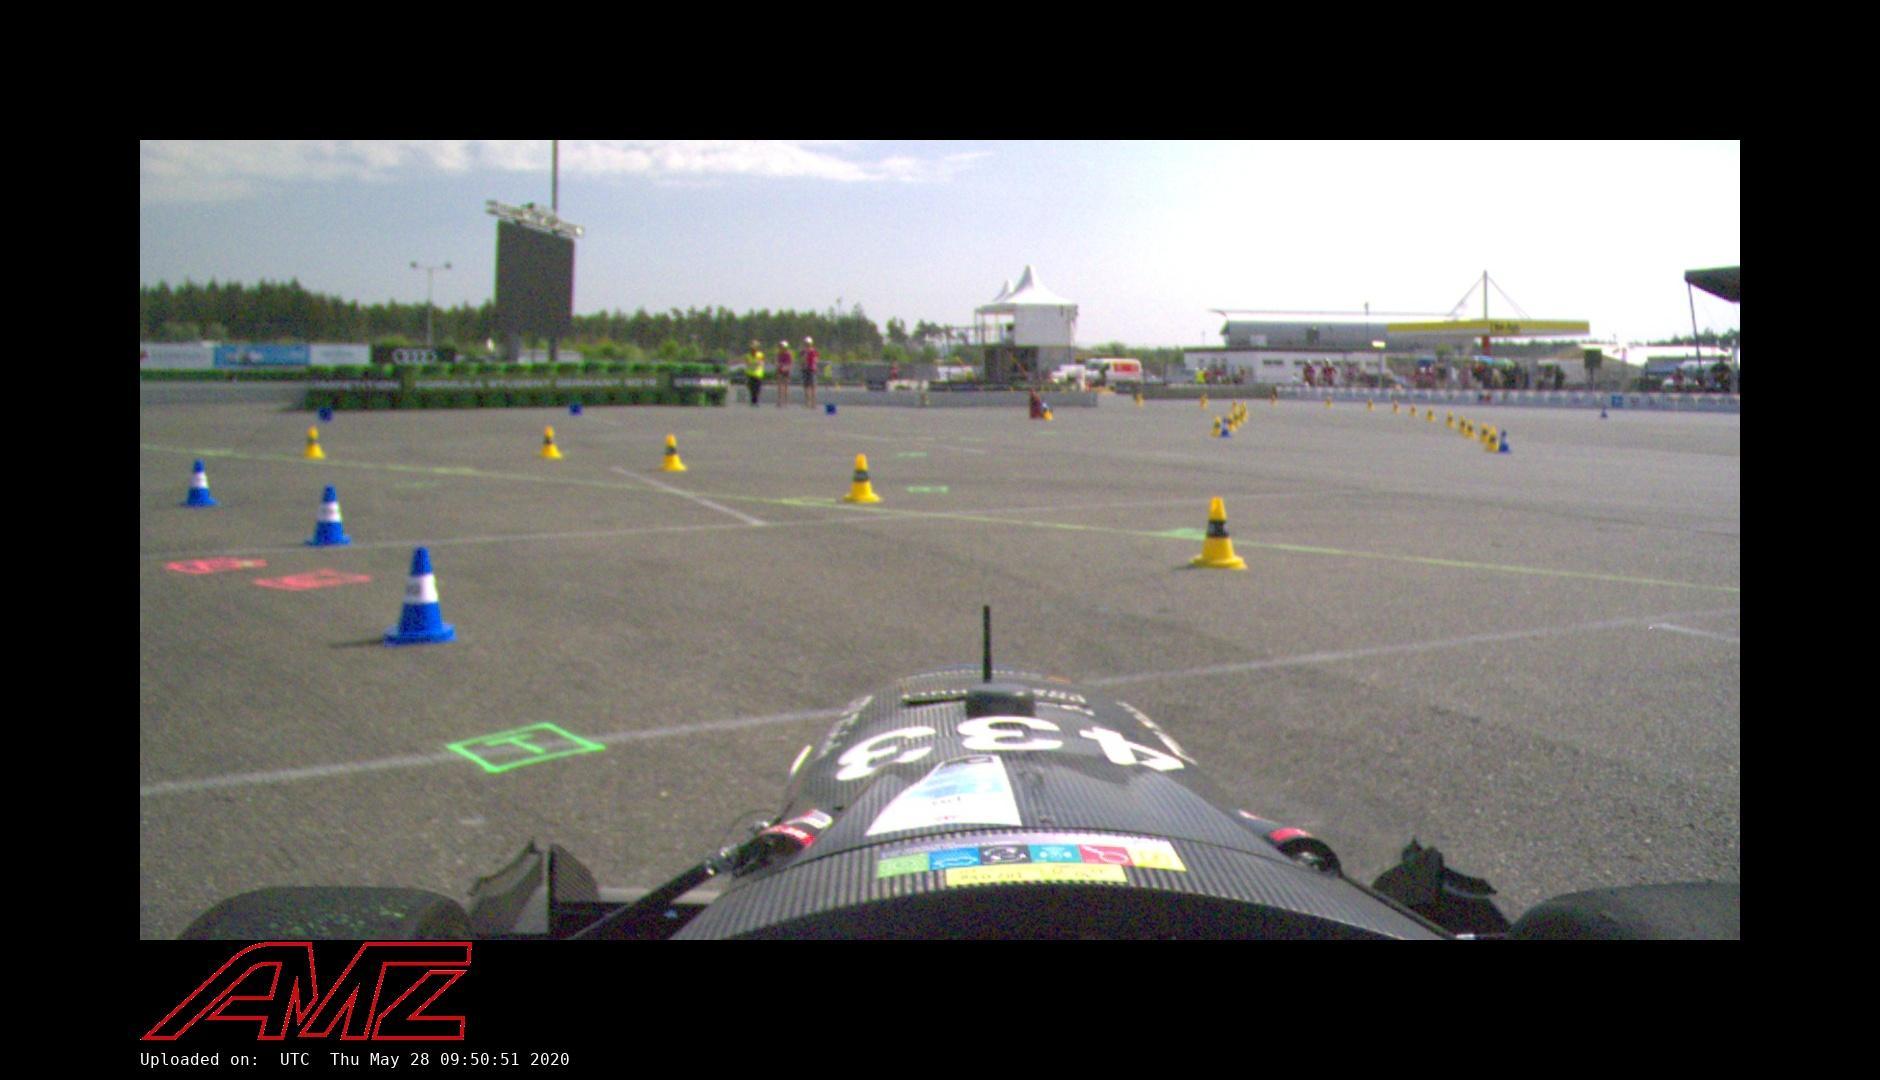blue_cone: (379, 546, 457, 646), (302, 484, 353, 548), (177, 458, 219, 508), (1497, 429, 1513, 454), (1218, 417, 1233, 437)
yellow_cone: (1189, 496, 1247, 570), (841, 453, 883, 504), (654, 434, 688, 472), (535, 425, 564, 460), (300, 426, 327, 460), (1485, 427, 1501, 452), (1478, 422, 1491, 443), (1211, 415, 1224, 436), (1464, 419, 1476, 438), (1457, 415, 1467, 433), (1444, 411, 1455, 427), (1425, 407, 1434, 422)
